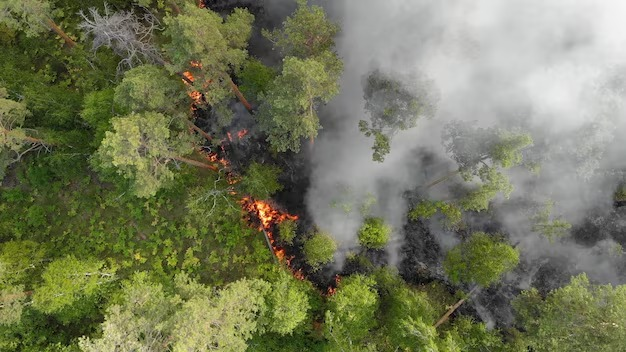forest_fire: (232, 191, 297, 269), (198, 133, 238, 185), (189, 122, 213, 141), (188, 90, 202, 109), (180, 71, 193, 86)
